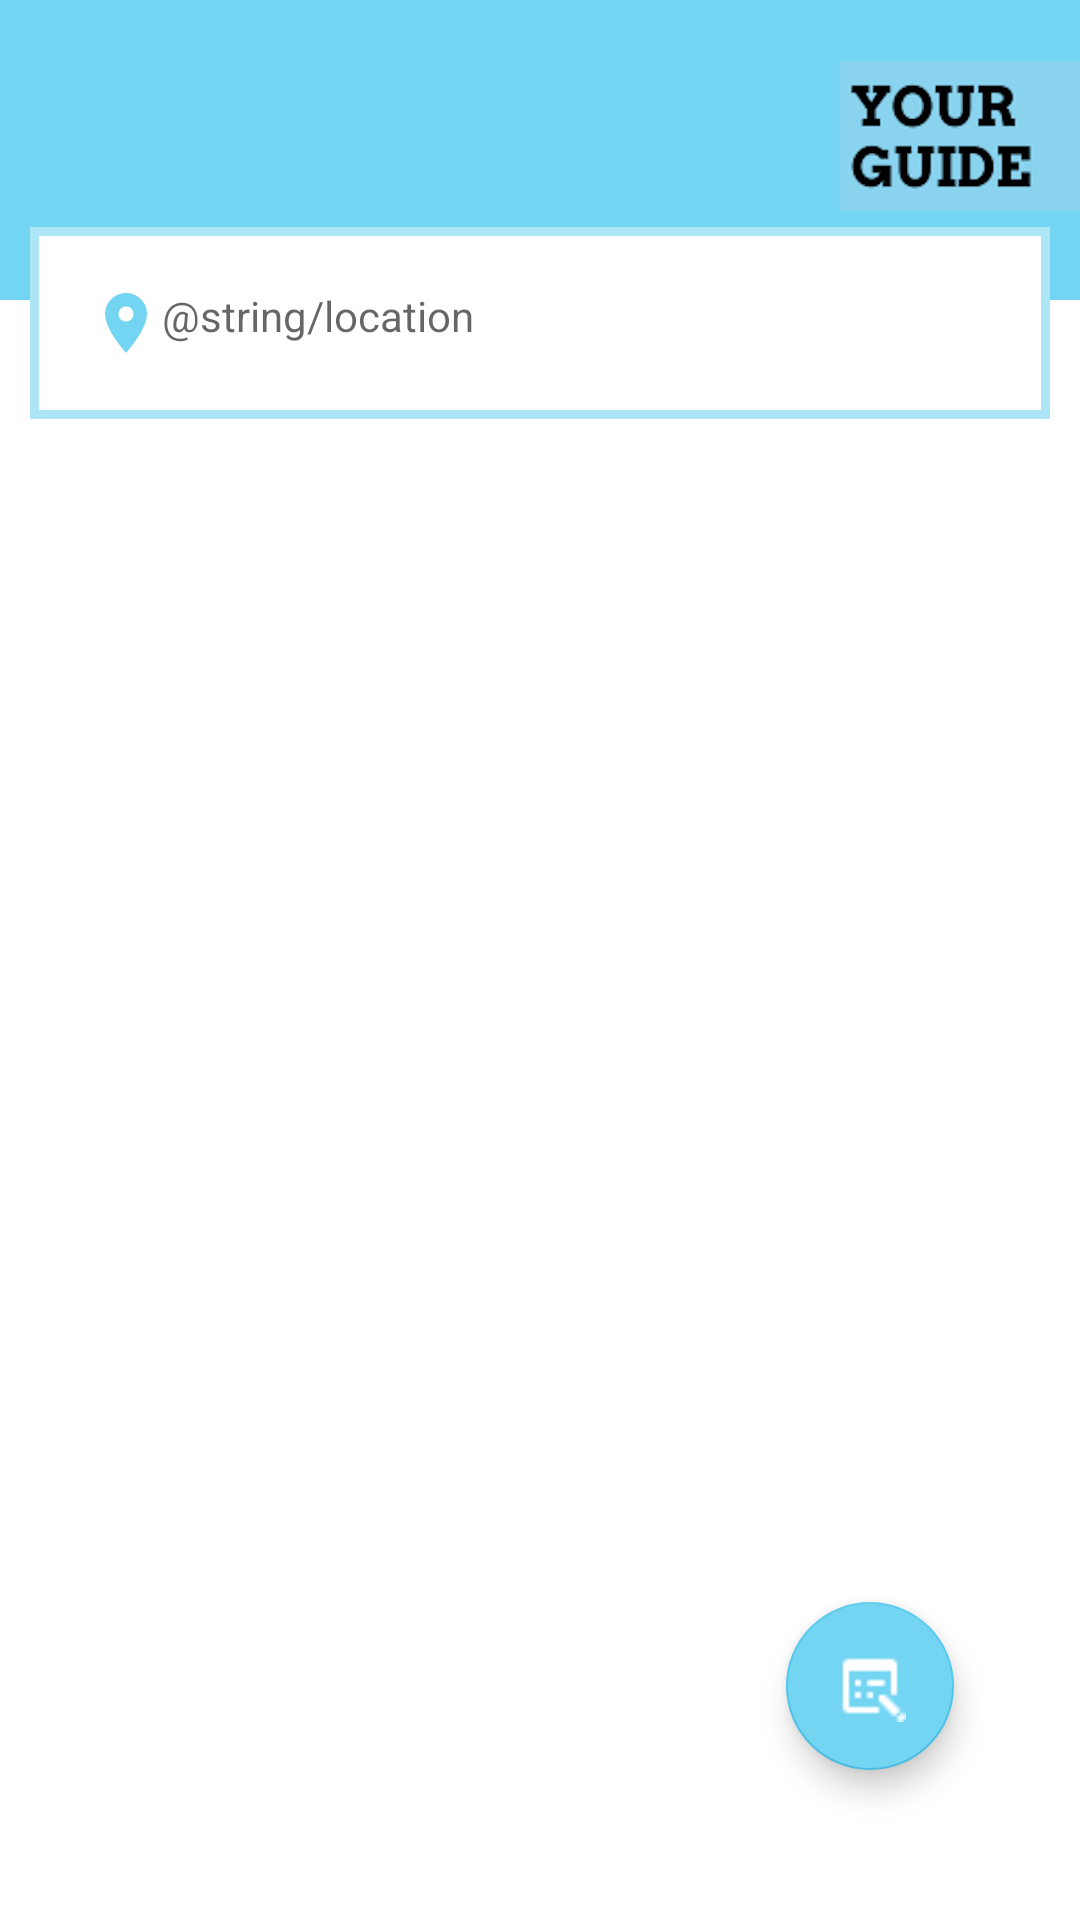

Named icons in this screenshot (1080 × 1920) and their bounding boxes, (x1, y1, x2, y2):
note: (786, 1602, 954, 1770)
